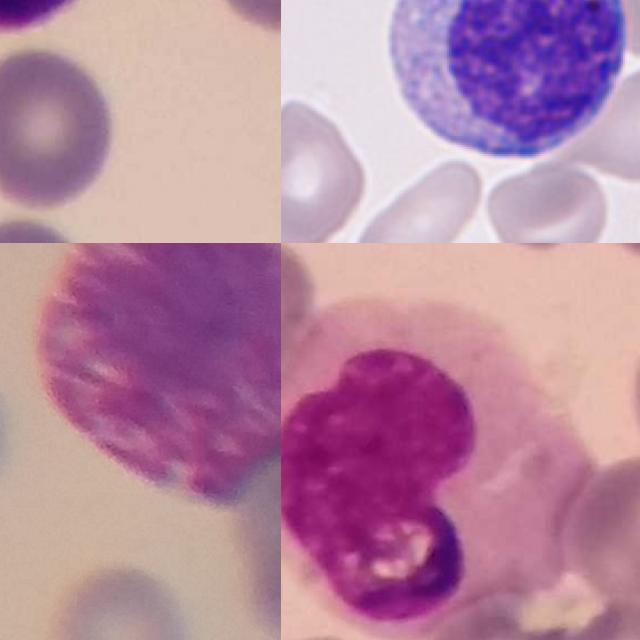Basophil: (31, 243, 281, 502)
Lymphocyte: (372, 0, 639, 173)
Monocyte: (281, 296, 590, 632)
RBC: (281, 89, 374, 243), (349, 153, 484, 243), (482, 159, 612, 243), (580, 60, 640, 186)
